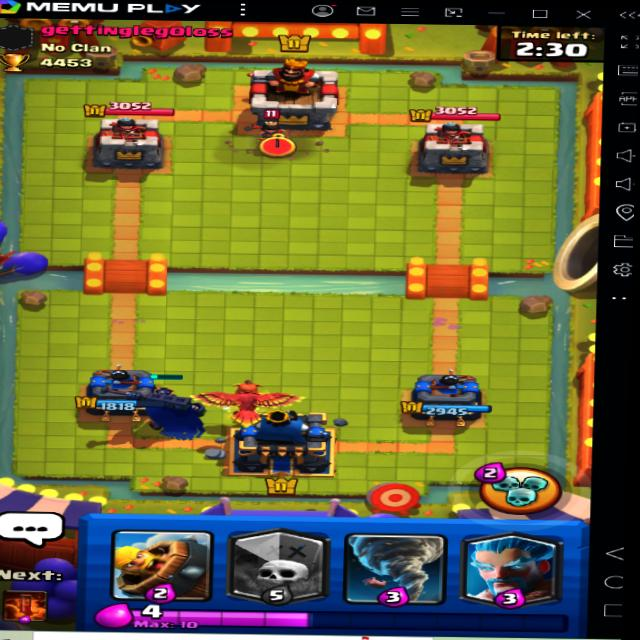princess: (249, 106, 296, 148)
